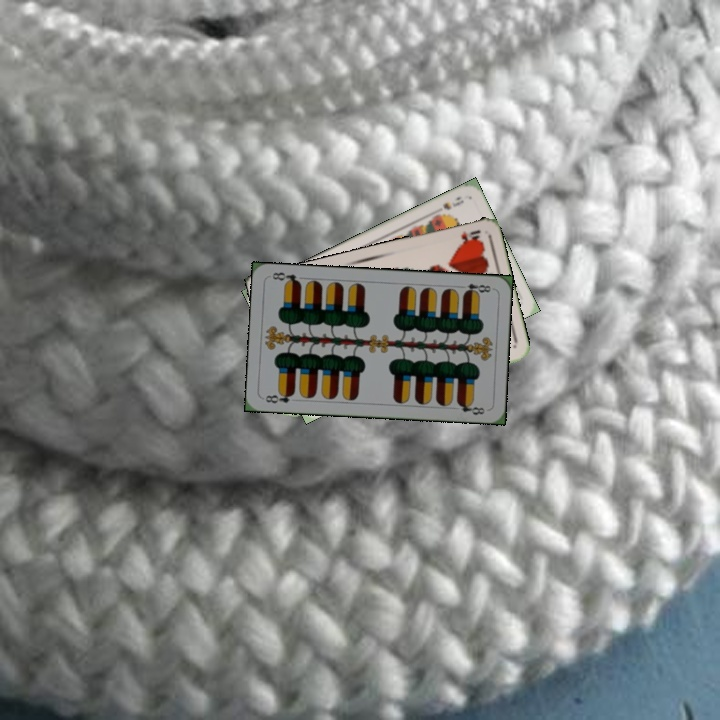E8: (455, 280, 494, 297), (262, 388, 297, 406)
HO: (455, 226, 484, 247)
S9: (439, 192, 467, 212)
